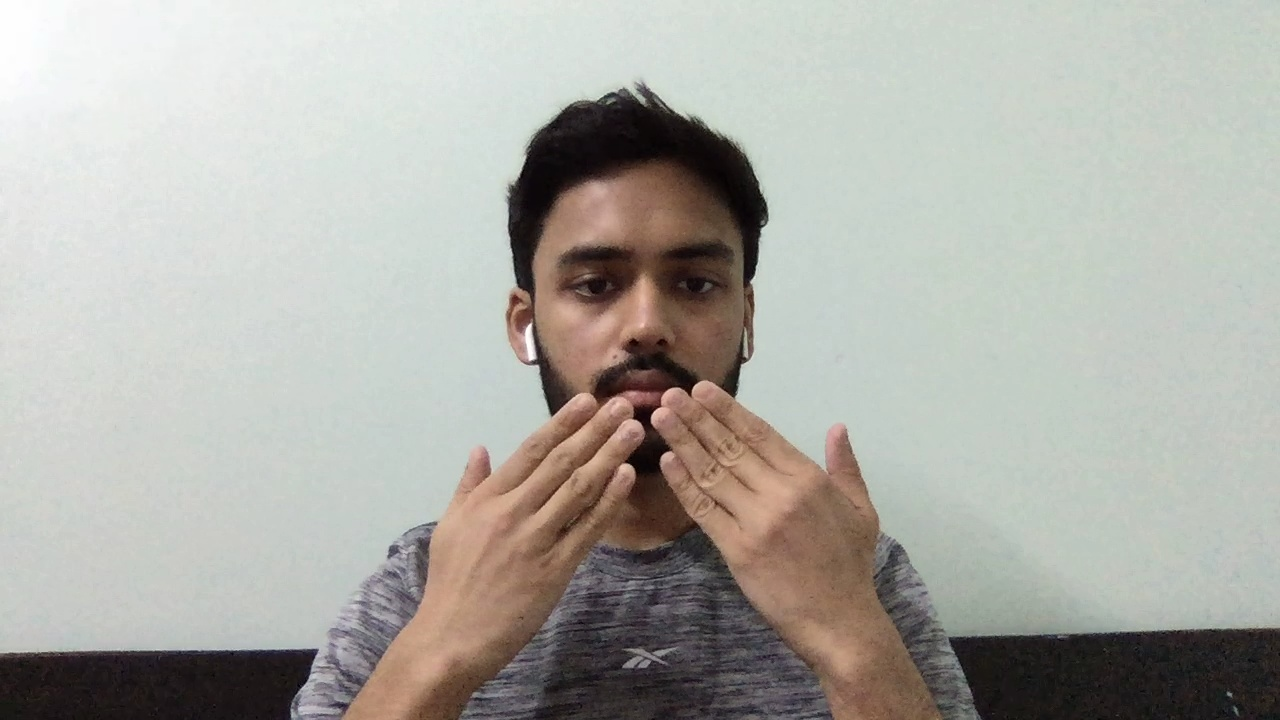Thank You: (389, 382, 924, 662)
